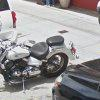Motorcycle: (4, 26, 72, 87)
